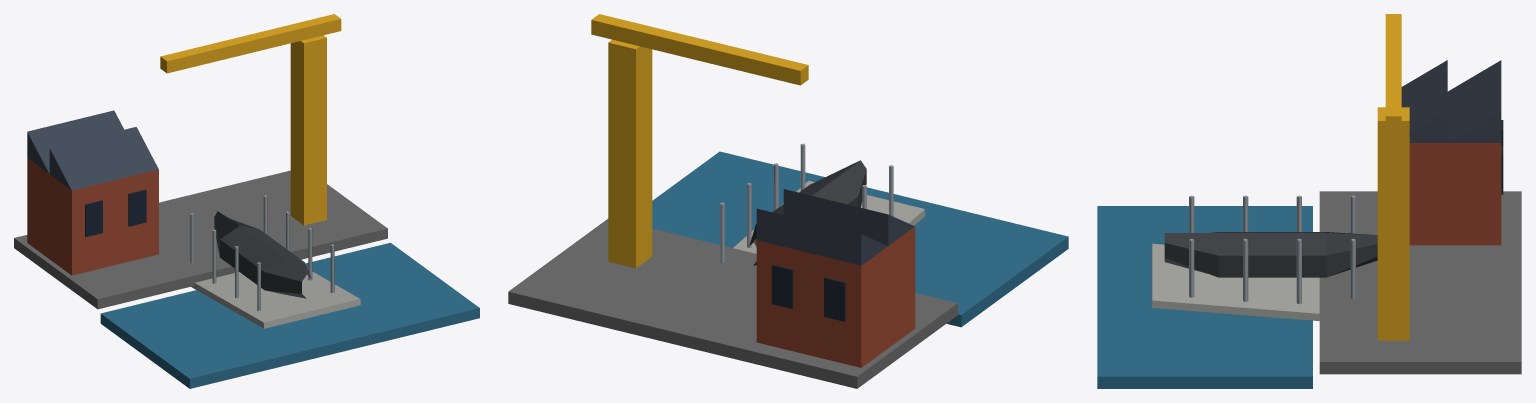
File: bld_special_shipyard_a05.glb
3 views of the same model, side by side, from view 1: azimuth 30°, elevation 25°; view 2: azimuth 150°, elevation 25°; view 3: azimuth 270°, elevation 25° (orthographic). The views are drawn at different scales.
Visible parts, largest first — view 1: body, crane; view 2: body, crane; view 3: body, crane.
Part boxes in pixels (x1,y1,x2,y2): body: (14, 110, 479, 388); crane: (160, 14, 341, 225); body: (508, 143, 1068, 388); crane: (591, 14, 808, 268); body: (1097, 60, 1521, 388); crane: (1377, 14, 1409, 340).
Size of what is drawn, in the model's own units: 15 by 10.7 by 15.75.
